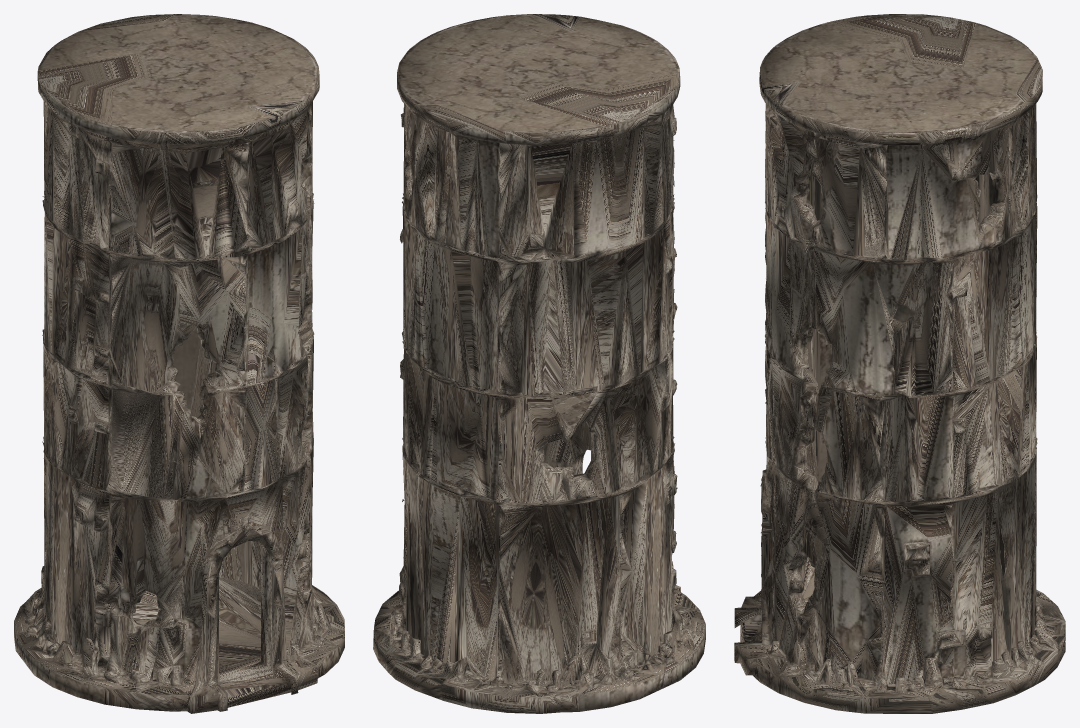
Rendered from gt_broken.glb.
The picture shows the model from 3 angles, left to right: view 1: azimuth 30°, elevation 25°; view 2: azimuth 150°, elevation 25°; view 3: azimuth 270°, elevation 25°; orthographic projection.
Parts seen in each view (by area): view 1: gt_broken; view 2: gt_broken; view 3: gt_broken.
Boxes of the visible parts, x1,y1,x2,y2 form: gt_broken: (14, 14, 344, 713); gt_broken: (373, 14, 705, 713); gt_broken: (734, 14, 1065, 713).
Size of the model in its own units: 1 by 1.9 by 0.9995.
Materials: 1 (1 with a texture image).
